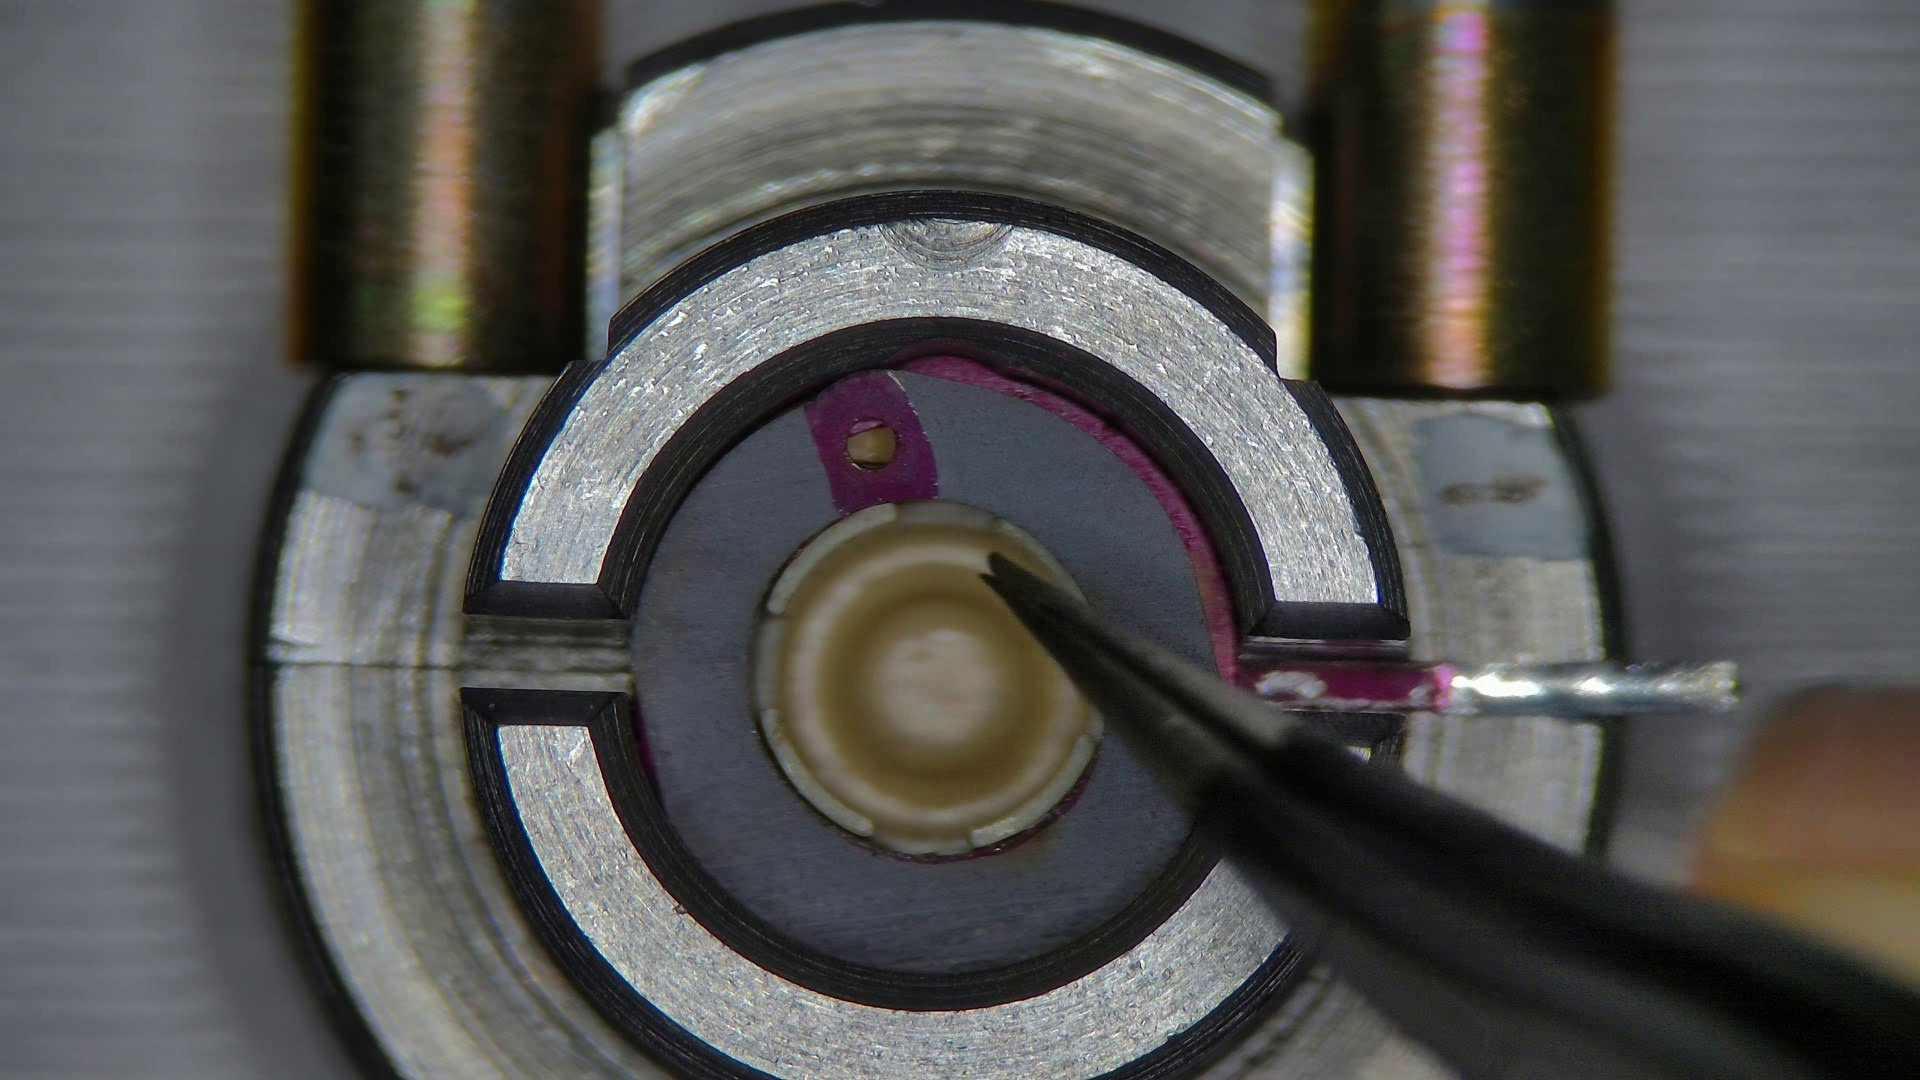GreyOring: (906, 355, 1238, 695)
YellowOring: (631, 373, 1199, 974)
